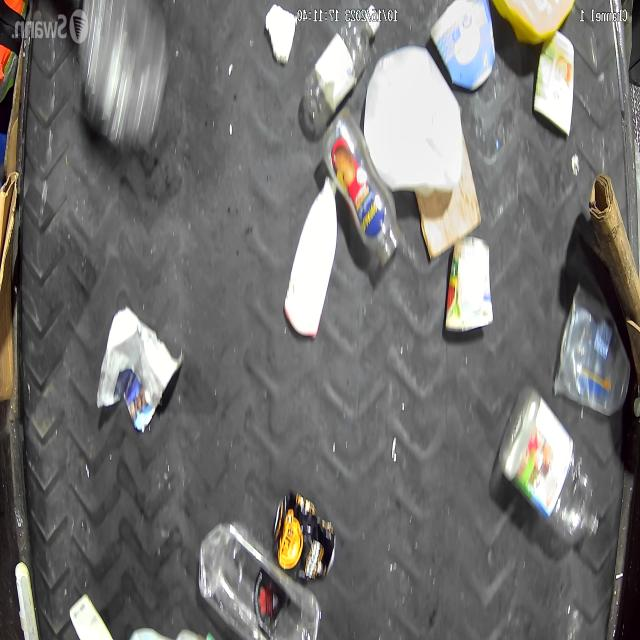can: (442, 233, 495, 334), (276, 490, 336, 579)
plastic_bottle: (493, 384, 601, 544), (196, 519, 312, 640), (323, 114, 400, 270), (301, 6, 379, 122)
